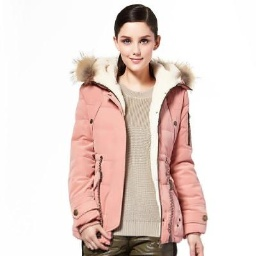face: (109, 3, 167, 75)
